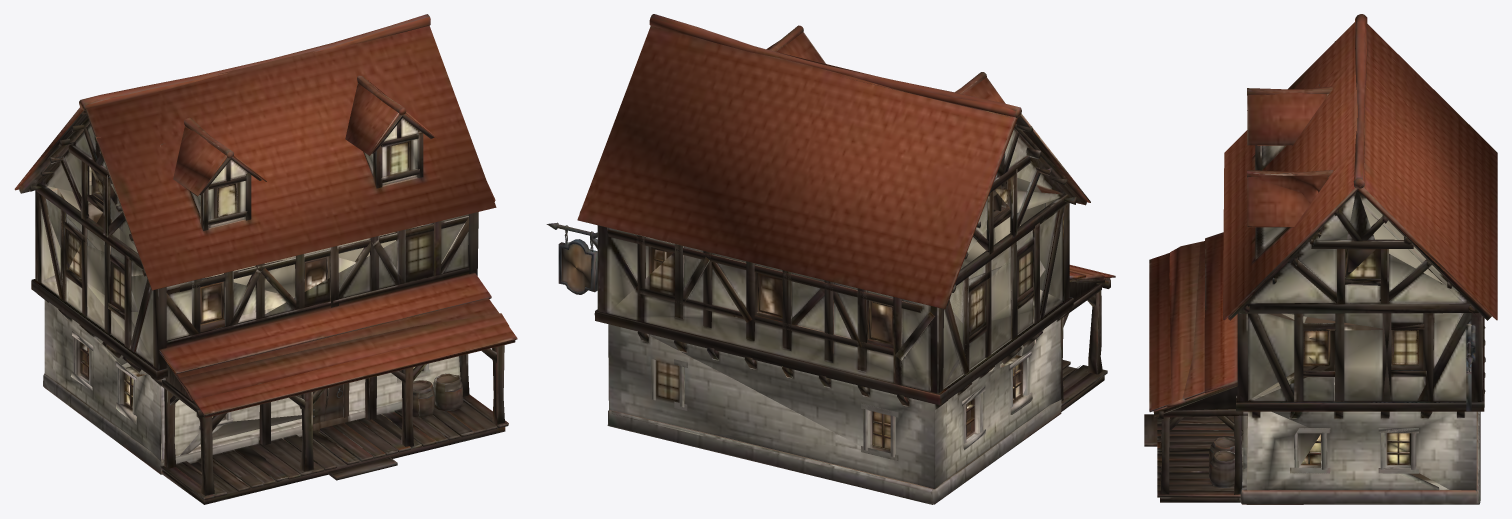
The model's file is inn.glb.
3 renders of one model, left to right at view 1: azimuth 30°, elevation 25°; view 2: azimuth 150°, elevation 25°; view 3: azimuth 270°, elevation 25°, orthographic. The views are drawn at different scales.
Size of the model in its own units: 0.9556 by 0.7945 by 0.7578.
1 material, 1 textured.
